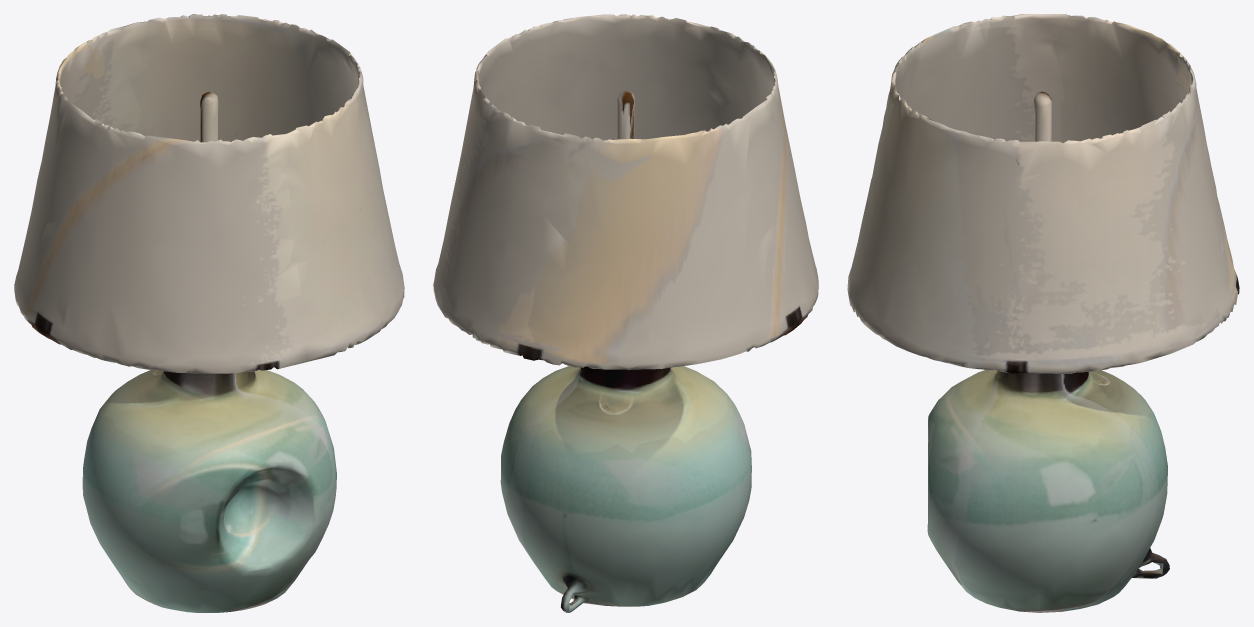
Rendered from lamp-forge-raw-textured.glb.
3 views of the same model, side by side, from view 1: azimuth 30°, elevation 25°; view 2: azimuth 150°, elevation 25°; view 3: azimuth 270°, elevation 25° (orthographic).
Parts seen in each view (by area): view 1: Mesh_0; view 2: Mesh_0; view 3: Mesh_0.
Part boxes in pixels (left/top/right/bottom): Mesh_0: left=14, top=14, right=404, bottom=612; Mesh_0: left=433, top=14, right=818, bottom=612; Mesh_0: left=847, top=14, right=1239, bottom=612.
Bounding box in the file's own units: 0.6212 × 0.88 × 0.6223.
1 material, 1 textured.
